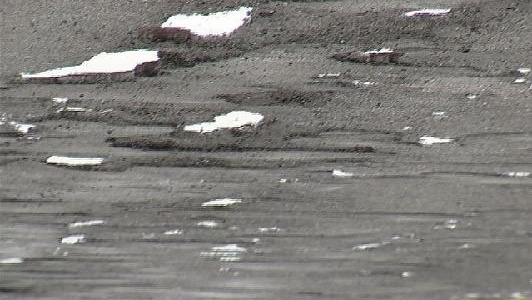pothole: (14, 48, 204, 90), (149, 3, 257, 47), (181, 108, 269, 137), (41, 153, 130, 175), (323, 47, 409, 68), (131, 154, 231, 171), (107, 129, 183, 150)
